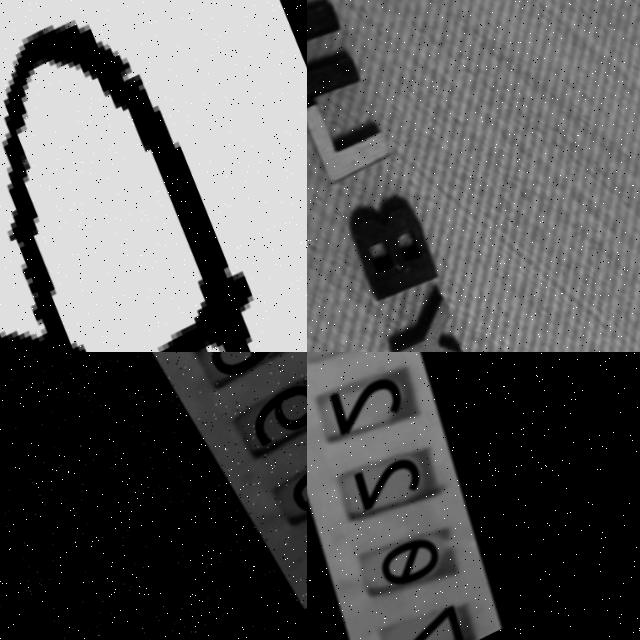0: (367, 522, 475, 613), (270, 429, 307, 549)
2: (314, 356, 435, 460), (343, 440, 454, 535)
6: (180, 352, 307, 414)
7: (384, 593, 496, 640), (307, 352, 412, 376)
9: (229, 357, 307, 479)
B: (345, 189, 452, 310)
L: (307, 75, 401, 187)
R: (0, 0, 307, 352)
U: (307, 0, 368, 105)
Y: (384, 291, 481, 352)
